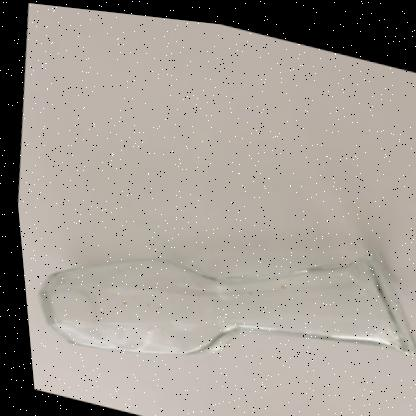Glass: (34, 244, 416, 350)
